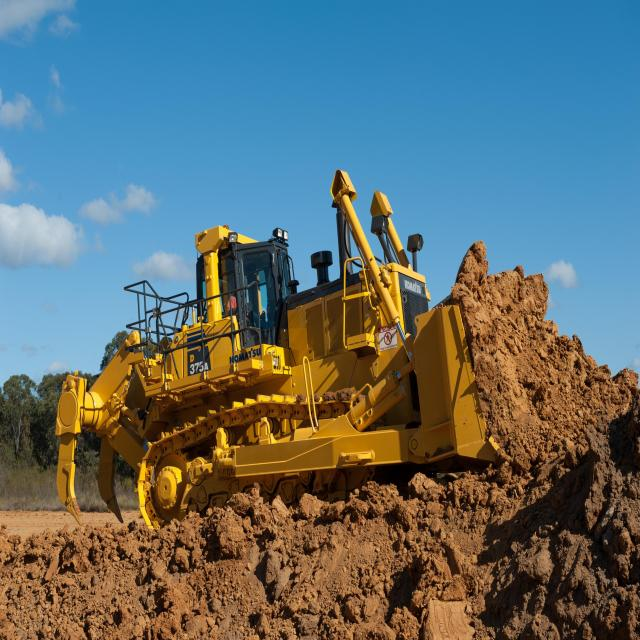Bulldozer: (52, 150, 535, 536)
